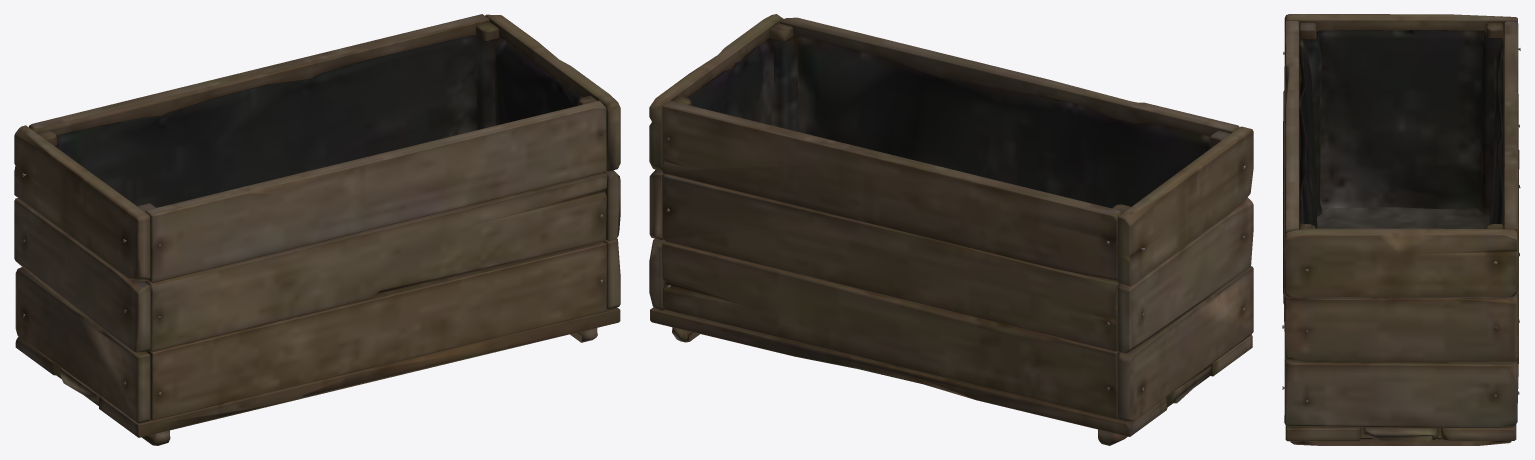
File: planter_box_01.glb
The picture shows the model from 3 angles, left to right: view 1: azimuth 30°, elevation 25°; view 2: azimuth 150°, elevation 25°; view 3: azimuth 270°, elevation 25°; orthographic projection. The views are drawn at different scales.
Parts seen in each view (by area): view 1: planter_box_01; view 2: planter_box_01; view 3: planter_box_01.
Part boxes in pixels (box(x1,y1,x2,y2)): planter_box_01: box(14, 14, 620, 445); planter_box_01: box(649, 14, 1253, 445); planter_box_01: box(1282, 14, 1520, 445).
Size of the model in its own units: 0.9126 by 0.4249 by 0.4136.
1 material, 1 textured.
